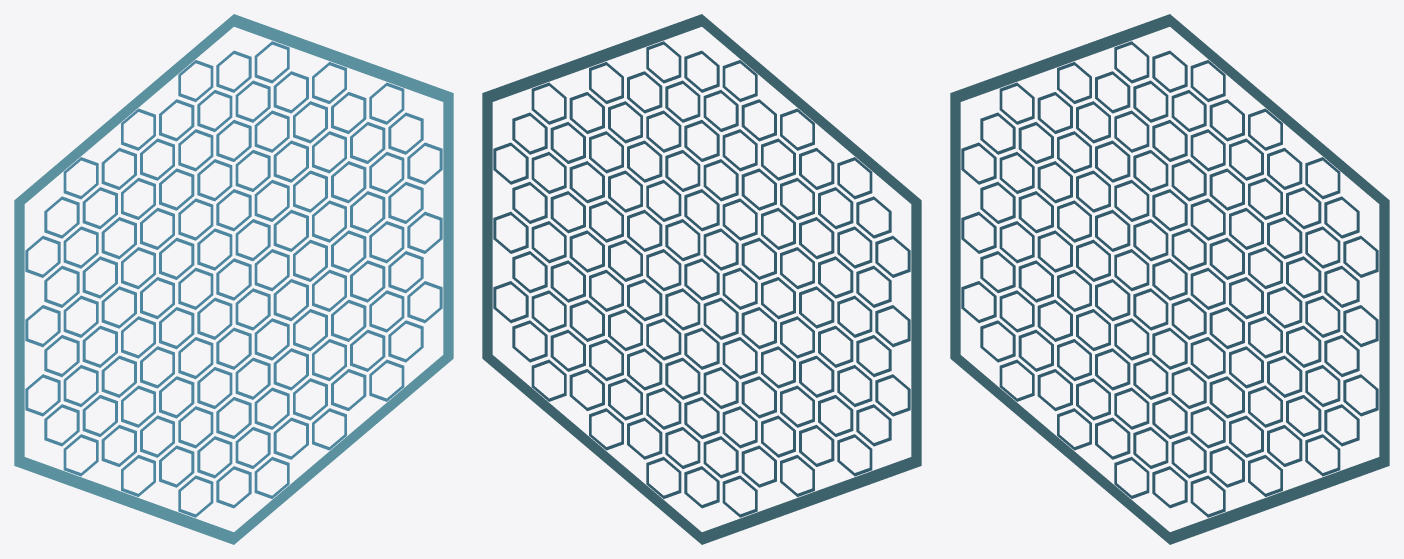
The model's file is HexShield.fbx.
3 renders of one model, left to right at view 1: azimuth 30°, elevation 25°; view 2: azimuth 150°, elevation 25°; view 3: azimuth 330°, elevation 25°, orthographic.
Visible parts, largest first — view 1: HexShield; view 2: HexShield; view 3: HexShield.
Part boxes in pixels (x1=…): HexShield: x1=14, y1=14, x2=453, y2=544; HexShield: x1=482, y1=14, x2=921, y2=544; HexShield: x1=950, y1=14, x2=1389, y2=544.
Size of the model in its own units: 0.7967 by 0.92 by 1.5e-07.
